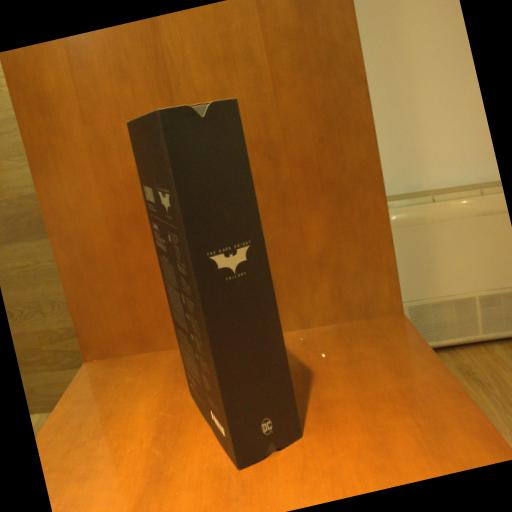catwoman: (126, 92, 318, 476)
